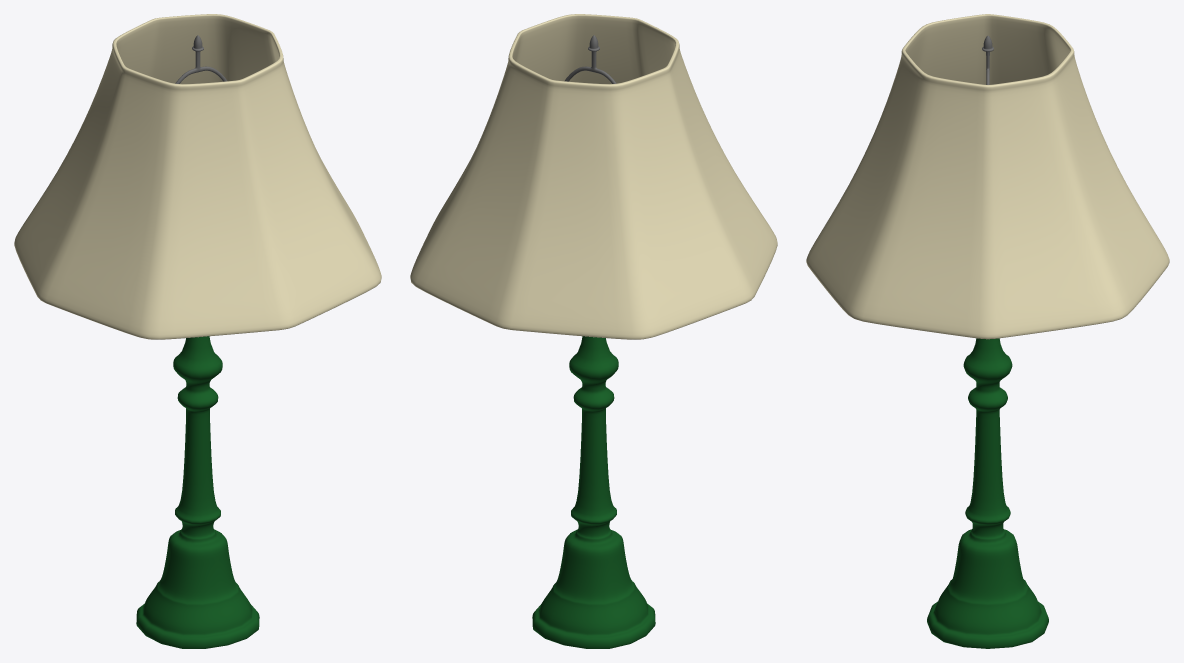
The model's file is DeskLamp.fbx.
3 views of the same model, side by side, from view 1: azimuth 30°, elevation 25°; view 2: azimuth 150°, elevation 25°; view 3: azimuth 270°, elevation 25° (orthographic).
Parts seen in each view (by area): view 1: pCube310; view 2: pCube310; view 3: pCube310.
Boxes of the visible parts, box(x1,y1,x2,y2) form: pCube310: box(14, 14, 381, 648); pCube310: box(410, 14, 777, 648); pCube310: box(806, 14, 1169, 648).
Size of the model in its own units: 80.21 by 143 by 80.21.
